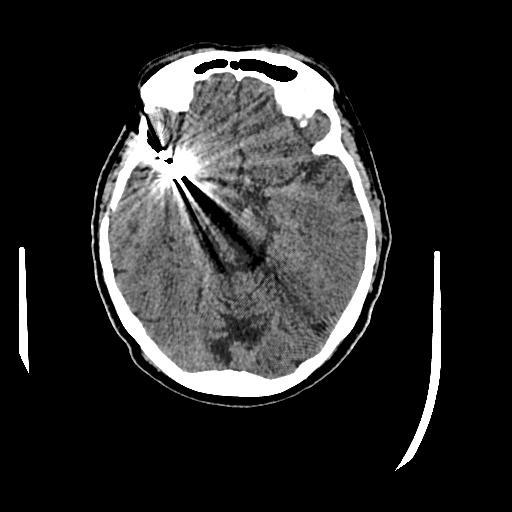Aneurysm: (136, 143, 196, 207)
